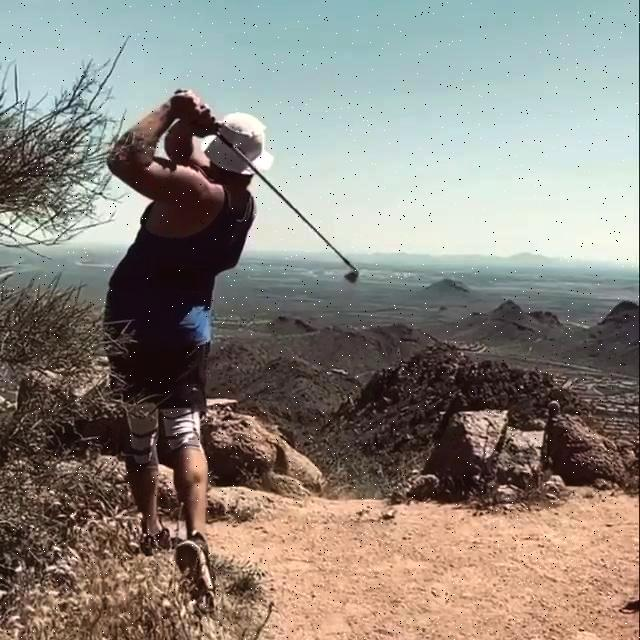ClubHandle: (176, 89, 359, 283)
ClubHead: (345, 271, 359, 283)
